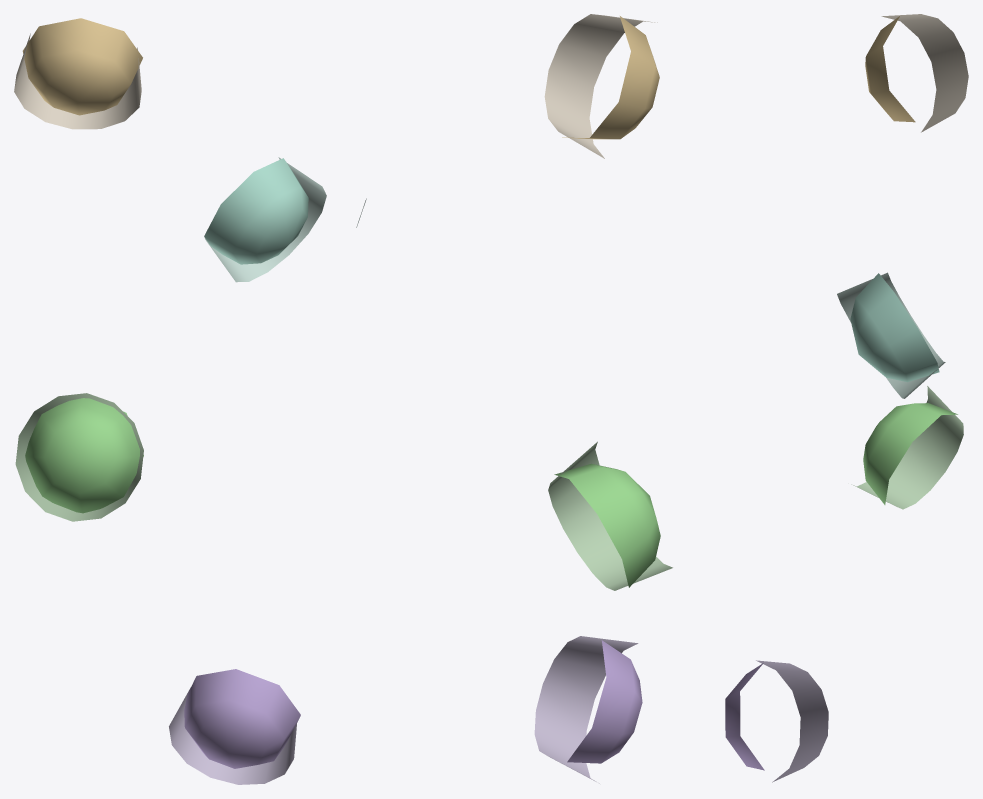
The model's file is LampLights.glb.
3 renders of one model, left to right at view 1: azimuth 30°, elevation 25°; view 2: azimuth 150°, elevation 25°; view 3: azimuth 270°, elevation 25°, orthographic. The views are drawn at different scales.
Visible parts, largest first — view 1: LampLights; view 2: LampLights; view 3: LampLights.
Boxes of the visible parts, x1=… form: LampLights: x1=14, y1=18, x2=326, y2=784; LampLights: x1=356, y1=14, x2=672, y2=783; LampLights: x1=725, y1=14, x2=968, y2=782.
Size of the model in its own units: 0.503 by 1.22 by 0.403.
